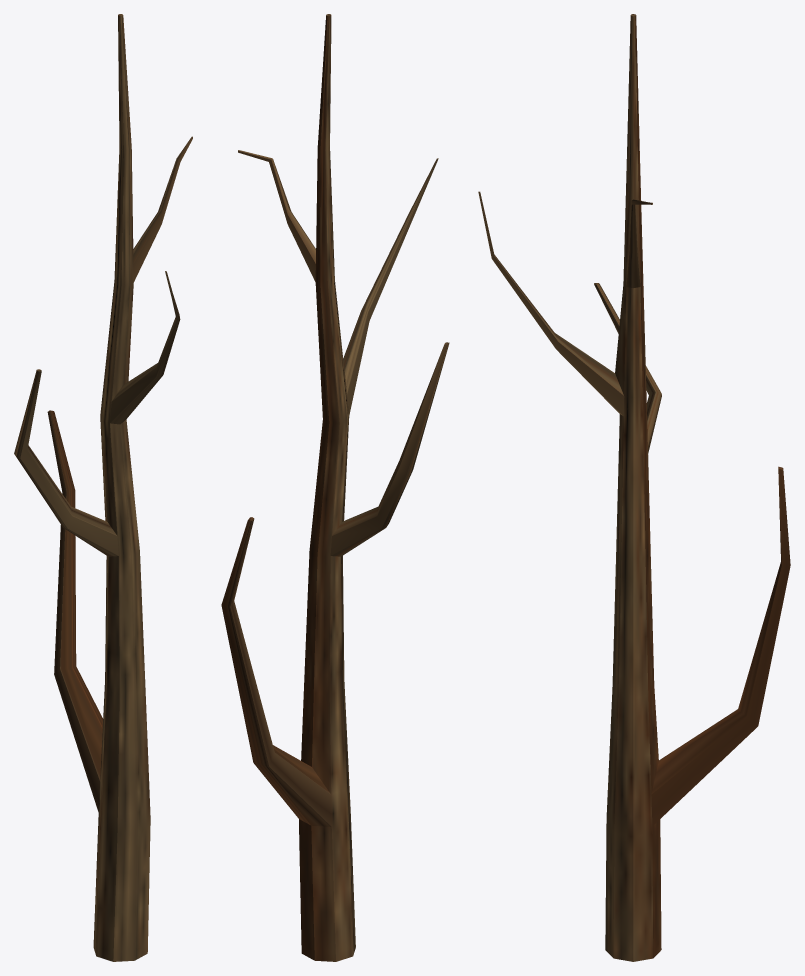
The model's file is Arvore morta.fbx.
The picture shows the model from 3 angles, left to right: view 1: azimuth 30°, elevation 25°; view 2: azimuth 150°, elevation 25°; view 3: azimuth 270°, elevation 25°; orthographic projection.
Visible parts, largest first — view 1: pCylinder2; view 2: pCylinder2; view 3: pCylinder2.
Boxes of the visible parts, x1=… form: pCylinder2: x1=14, y1=14, x2=192, y2=961; pCylinder2: x1=221, y1=14, x2=449, y2=961; pCylinder2: x1=478, y1=14, x2=790, y2=961.
Size of the model in its own units: 2.77 by 13.51 by 4.09.
Materials: 1 (1 with a texture image).
